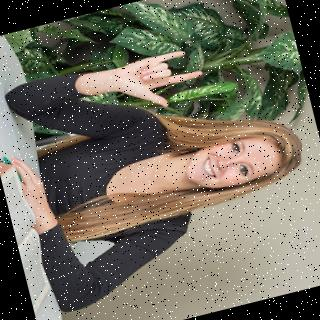I Love You: (102, 36, 212, 120)
